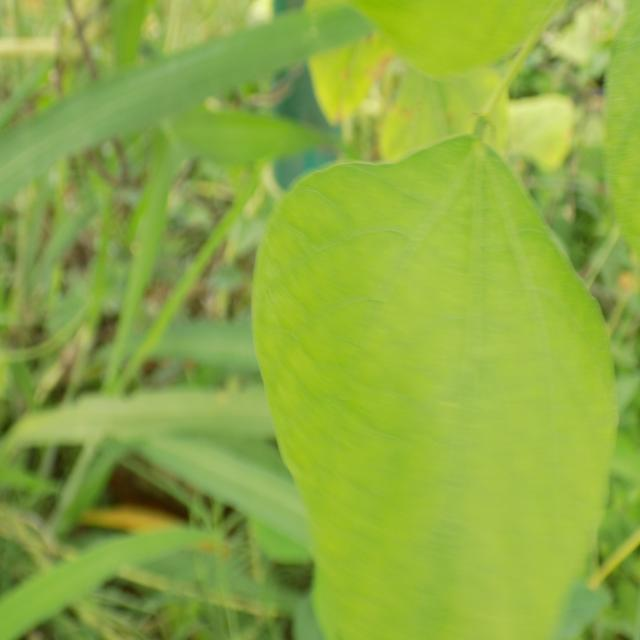Dolicos bean_healthy: (254, 141, 627, 640)
